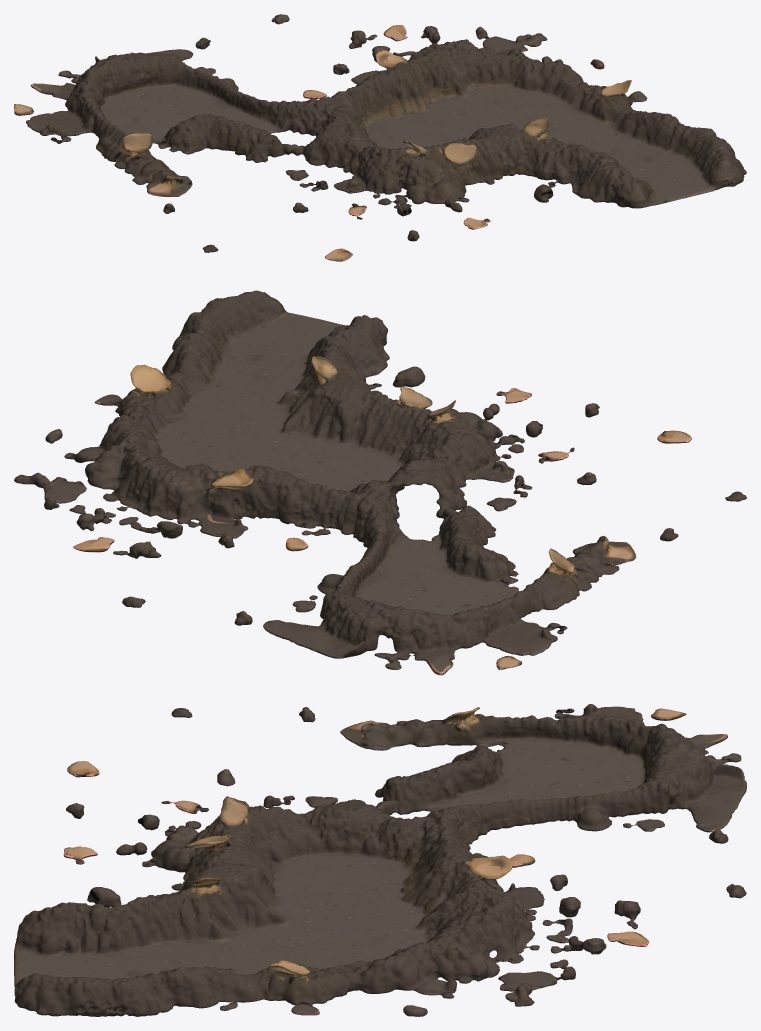
Rendered from Meshy_AI_mud_path_0319005009_texture.glb.
3 renders of one model, top to bottom at view 1: azimuth 30°, elevation 25°; view 2: azimuth 150°, elevation 25°; view 3: azimuth 270°, elevation 25°, orthographic. The views are drawn at different scales.
Bounding box in the file's own units: 1.99 × 0.1713 × 1.99.
Materials: 1 (1 with a texture image).
